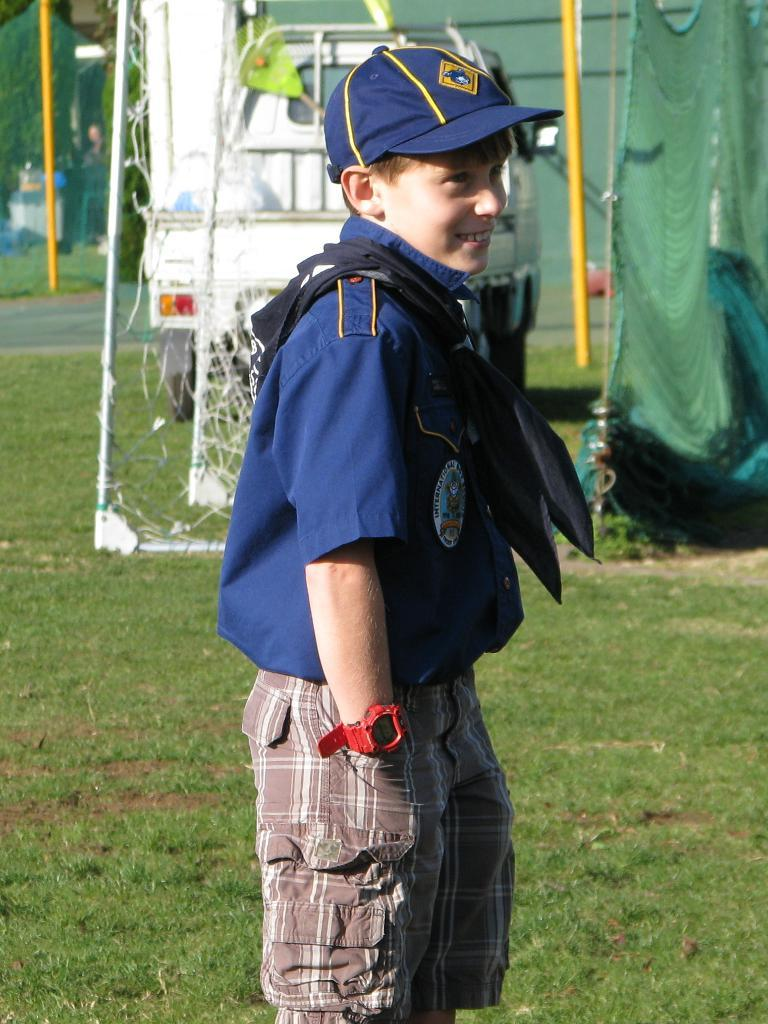Hat: (319, 42, 568, 186)
